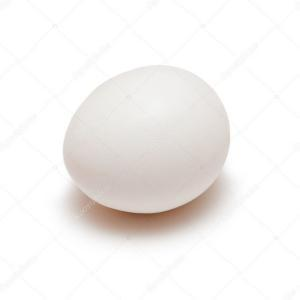Egg: (60, 63, 234, 216)
